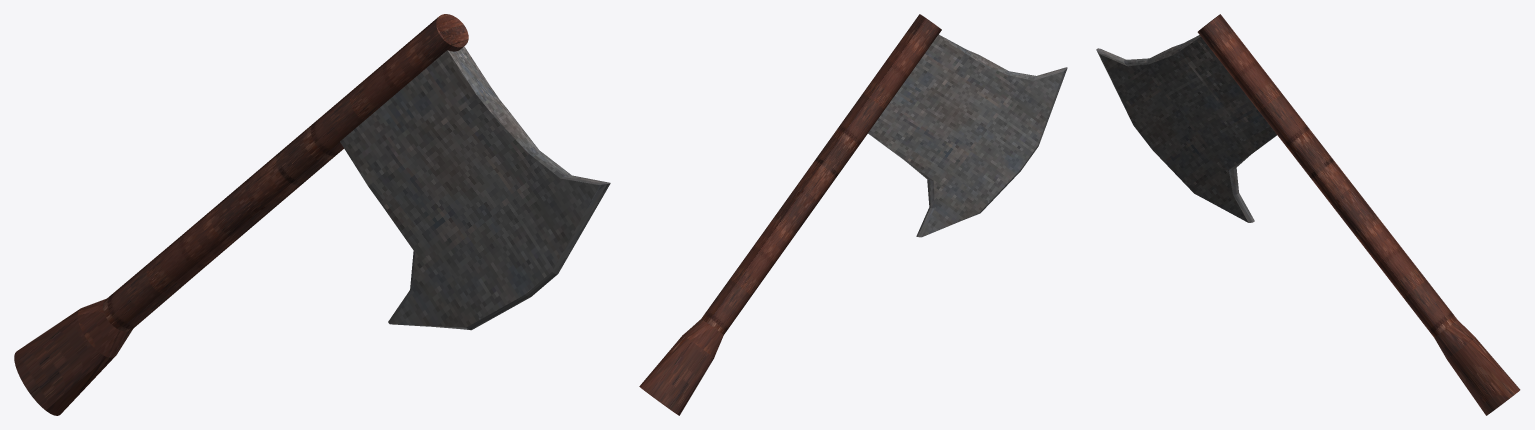
Rendered from Hacha.fbx.
3 renders of one model, left to right at view 1: azimuth 90°, elevation 25°; view 2: azimuth 150°, elevation 25°; view 3: azimuth 270°, elevation 25°, orthographic. The views are drawn at different scales.
Visible parts, largest first — view 1: Mango; view 2: Mango; view 3: Mango.
Boxes of the visible parts, x1,y1,x2,y2 form: Mango: (14, 14, 610, 415); Mango: (639, 14, 1067, 415); Mango: (1096, 14, 1520, 415).
Bounding box in the file's own units: 21.24 × 29.55 × 33.3.
Materials: 2 (2 with a texture image).
